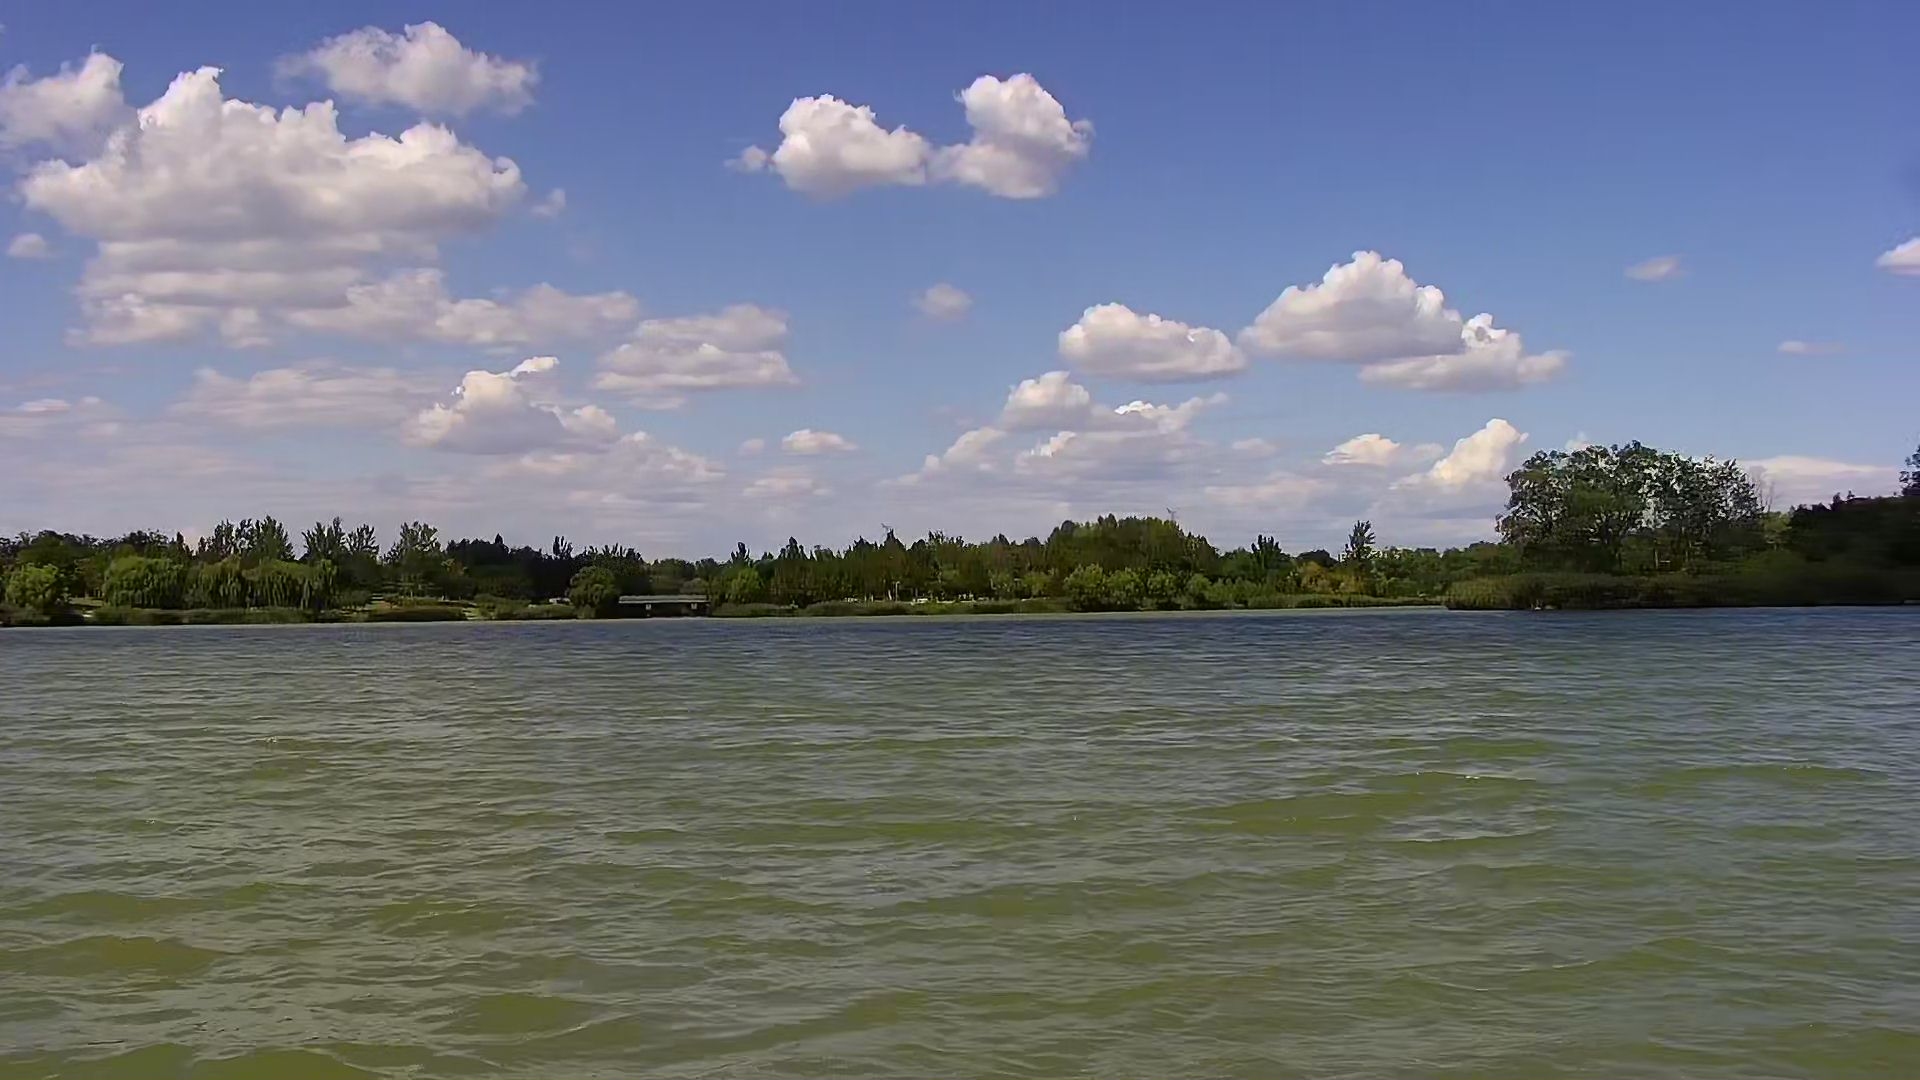bridge: (611, 589, 716, 626)
